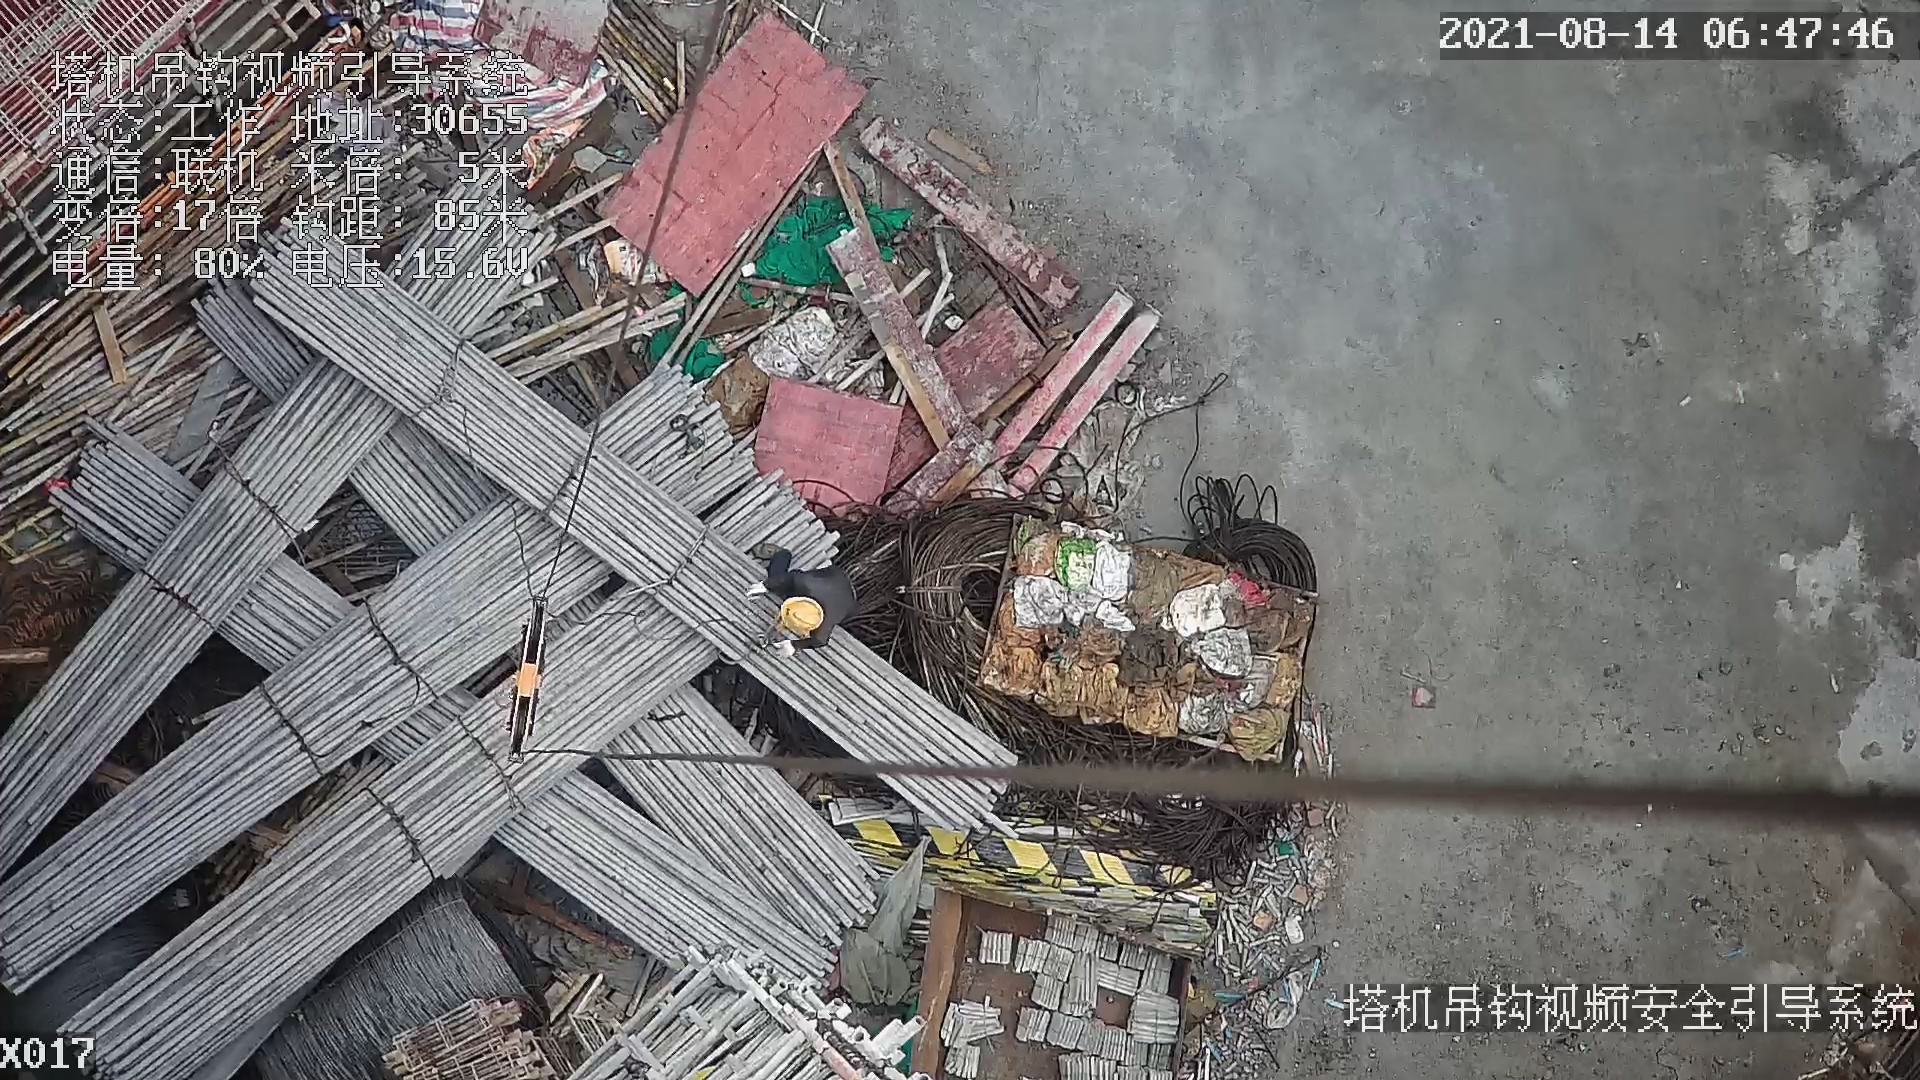board: (589, 11, 870, 302)
helmet: (778, 598, 829, 631)
hook: (494, 590, 563, 767)
person: (744, 535, 867, 659)
